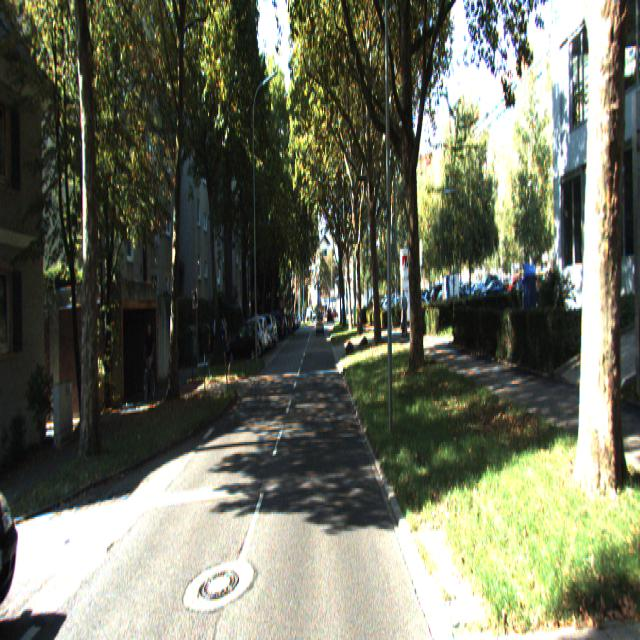Car: (0, 371, 33, 638), (225, 317, 259, 361)
